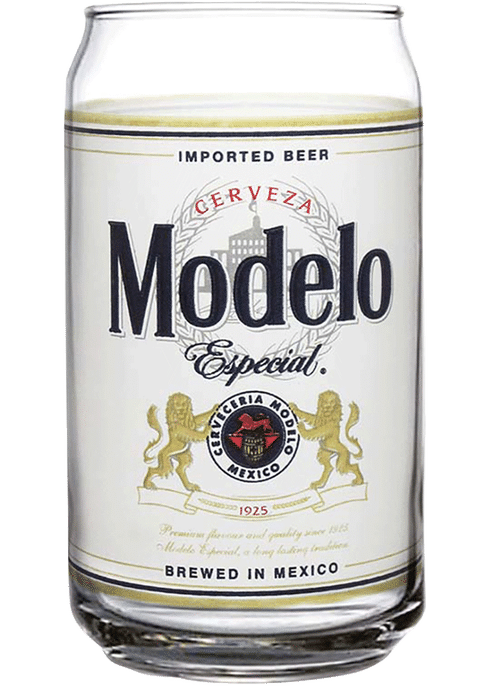beer can: (65, 3, 425, 680)
